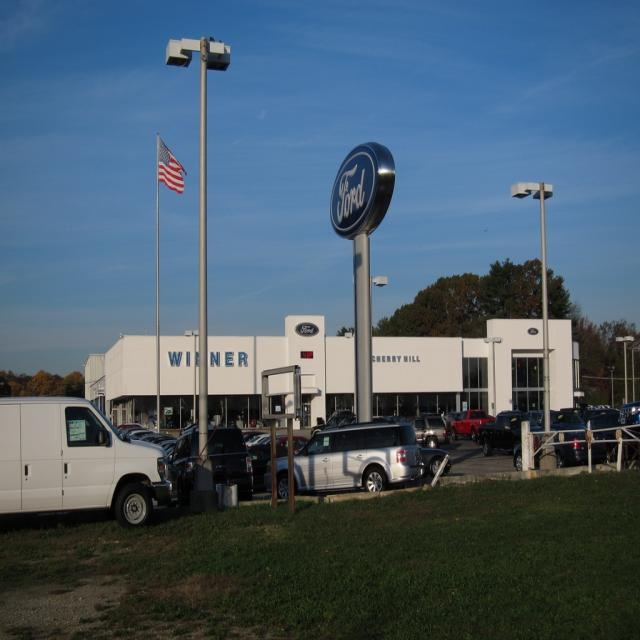ford: (328, 144, 383, 237)
